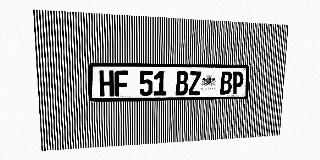1: (153, 71, 167, 96)
5: (139, 71, 153, 96)
B: (175, 71, 188, 95), (220, 71, 232, 94)
F: (114, 70, 128, 96)
H: (99, 70, 114, 97)
P: (231, 71, 244, 94)
Z: (188, 71, 201, 95)
